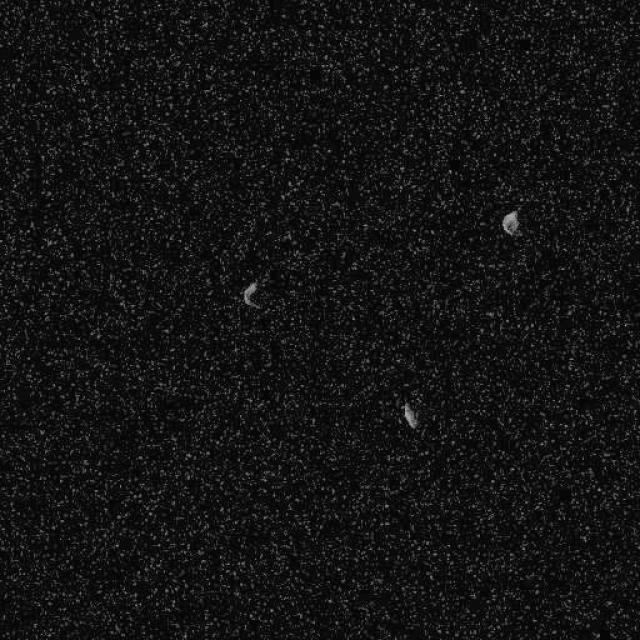D2: (241, 280, 261, 309), (401, 401, 419, 430), (500, 210, 520, 236)
